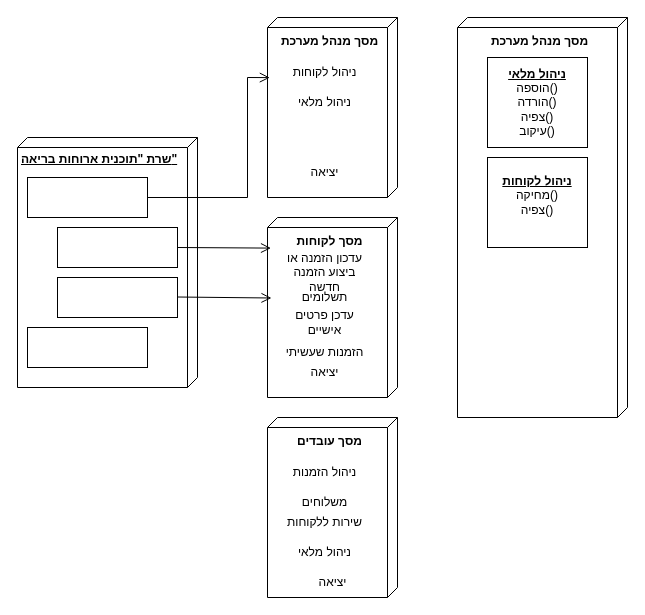
Some shapes in this 645 by 615 pixel diagram are drawn without their labels. The shapes that lost their labels are listed below. From the top down, each one's centre as x and y in pixels, then its label:
point (87, 197): <<artifact>> מנהל מערכת:כניסה
point (117, 247): <<artifact>> לקוח:כניסה
point (117, 297): <<artifact>> לקוח:הרשמה
point (87, 347): <<artifact>> עובדים:כניסה
